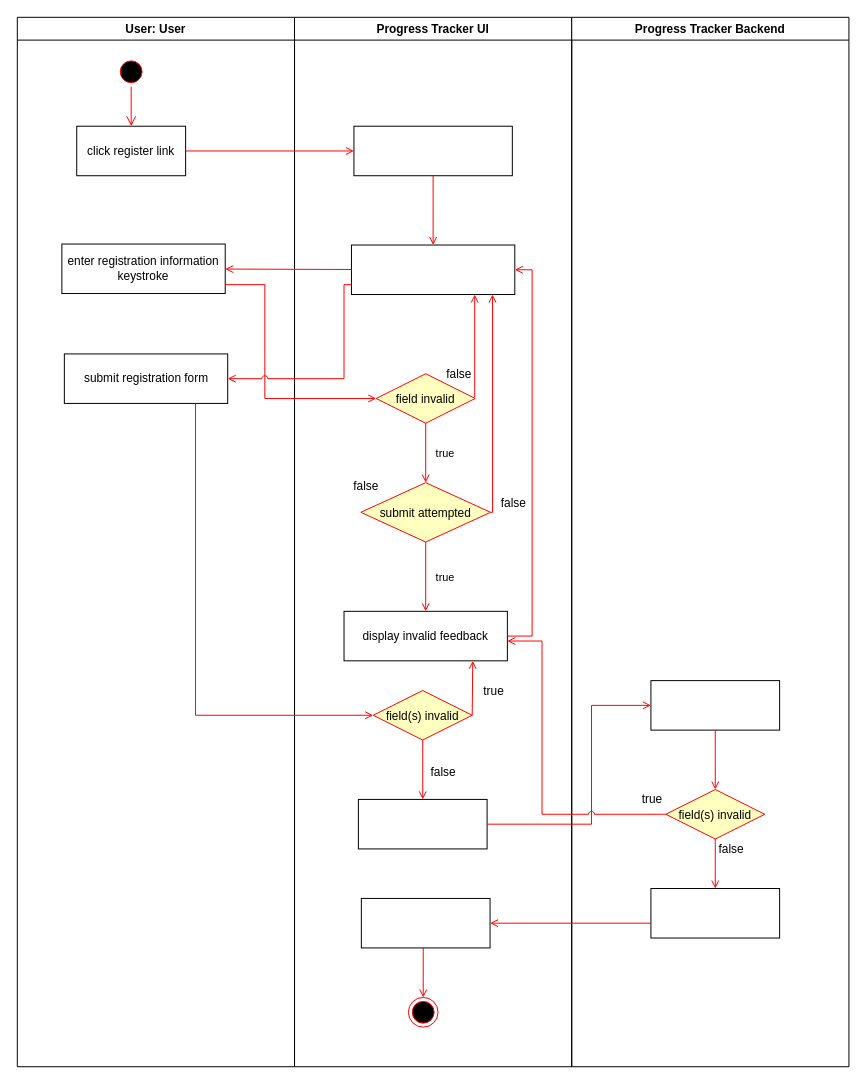
Image size: 866x1084. Some labels were removed from this diagram. Each missing label, with the centre of its shape:
"create user" belongs at (x=715, y=913).
"redirect to home page" belongs at (x=425, y=922).
"redirect to registration page" belongs at (x=432, y=150).
"register user request" belongs at (x=422, y=823).
"validate fields" belongs at (x=715, y=705).
"wait for user action" belongs at (x=432, y=269).
